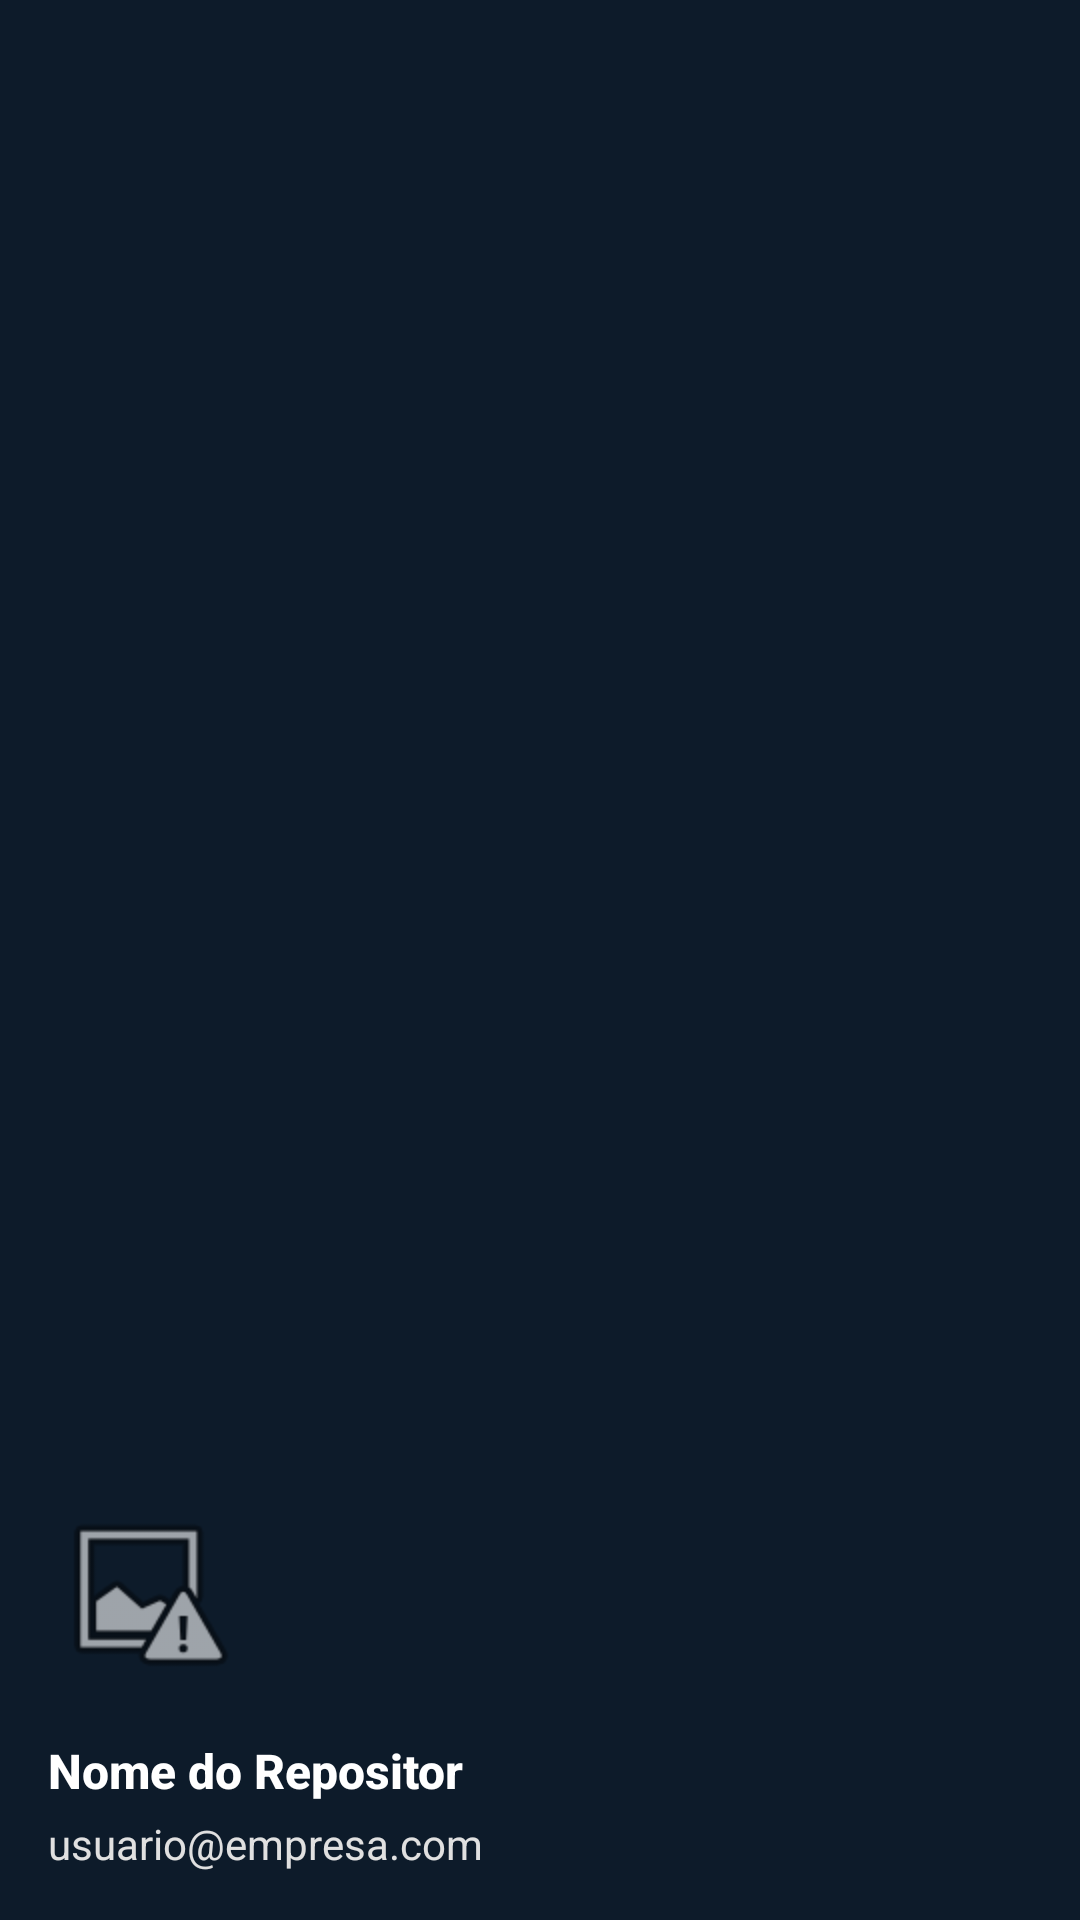

Where to tap for icons on this 1080 x 1920 app screen, as point (x, y):
report: point (151, 1595)
